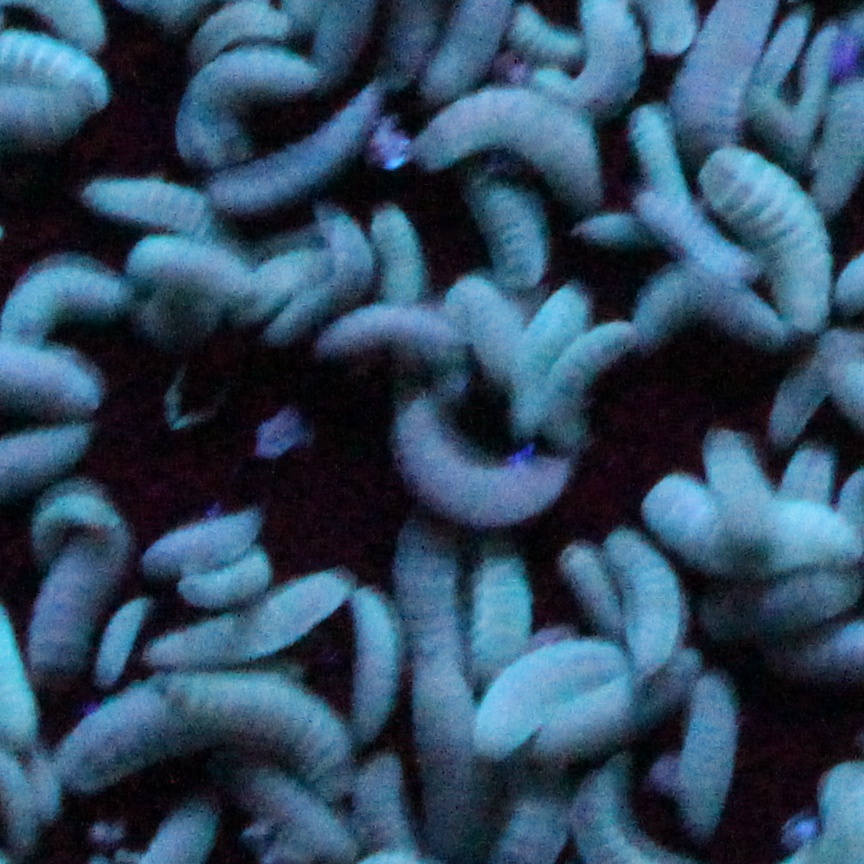larve: (394, 564, 483, 839), (62, 682, 365, 757), (397, 389, 569, 510), (154, 560, 344, 664), (704, 171, 833, 314), (408, 100, 597, 193), (483, 635, 608, 757), (537, 310, 629, 450), (594, 535, 683, 668), (190, 50, 297, 146), (322, 307, 490, 360), (90, 175, 212, 246), (47, 528, 112, 657), (154, 493, 251, 578), (229, 253, 319, 343), (712, 571, 854, 628), (344, 589, 394, 739), (476, 200, 544, 310), (4, 278, 112, 346), (708, 435, 765, 553), (679, 696, 726, 832), (369, 210, 429, 300), (319, 225, 369, 325)
